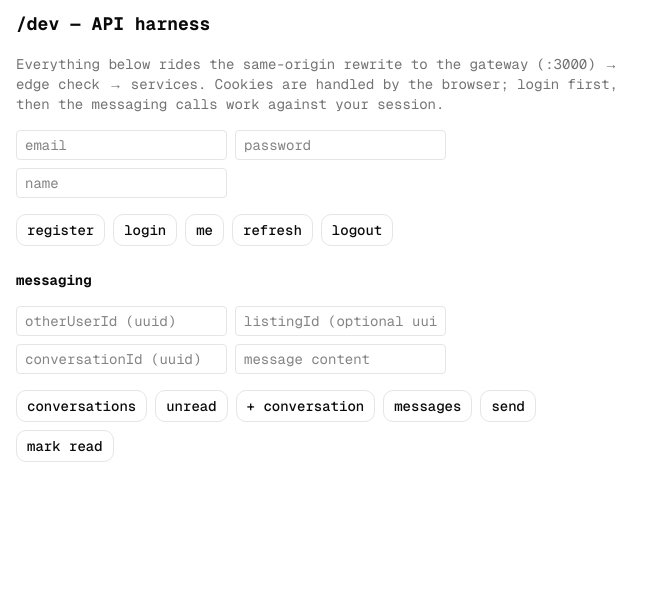
Test: /dev harness page › sends a message through the harness with the exact shape
This screenshot has width=657, height=597.
In the field with placeholder "conversationId (uuid)": (122, 359) [16, 344, 227, 374], type "conv-1"
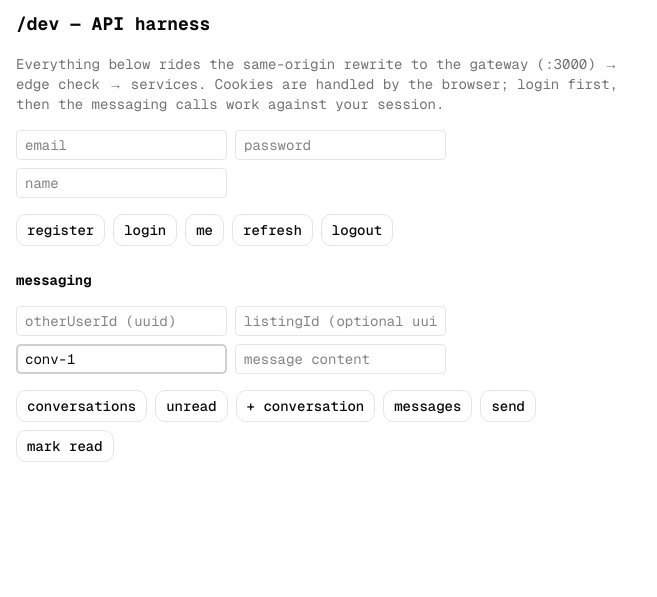
In the field with placeholder "message content": (340, 359) [235, 344, 446, 374], type "trade?"
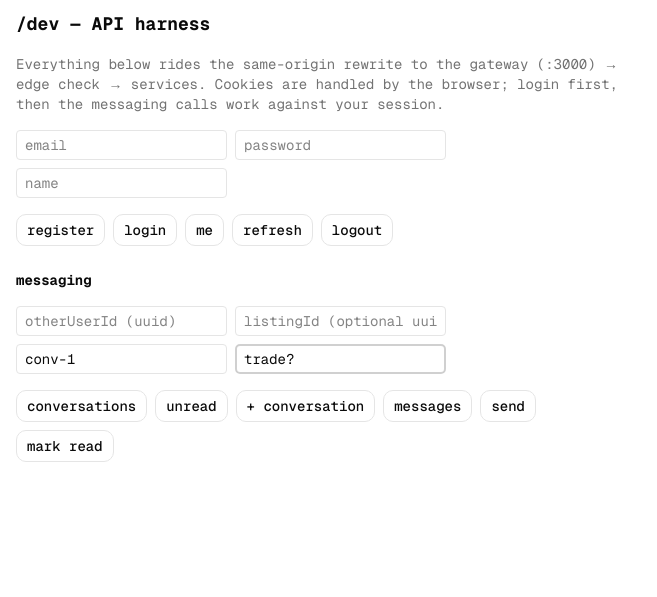
Click the button "send": (508, 406) [480, 390, 536, 422]
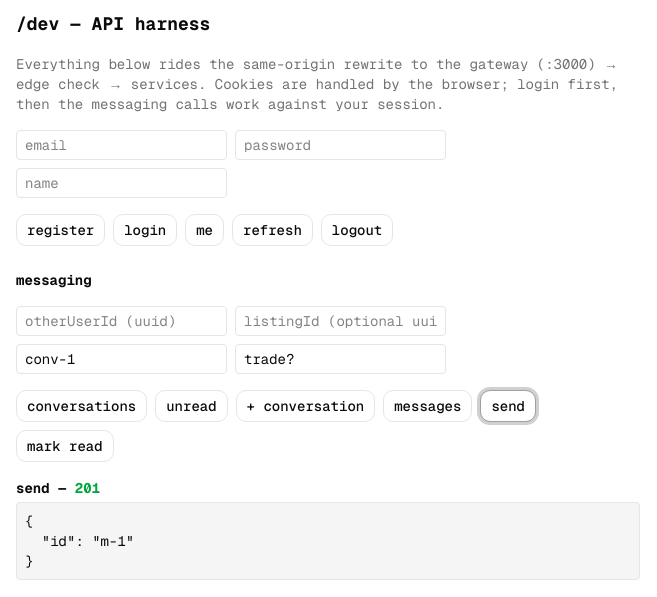
expect the text "201" is shown: met, box [75, 479, 100, 497]
